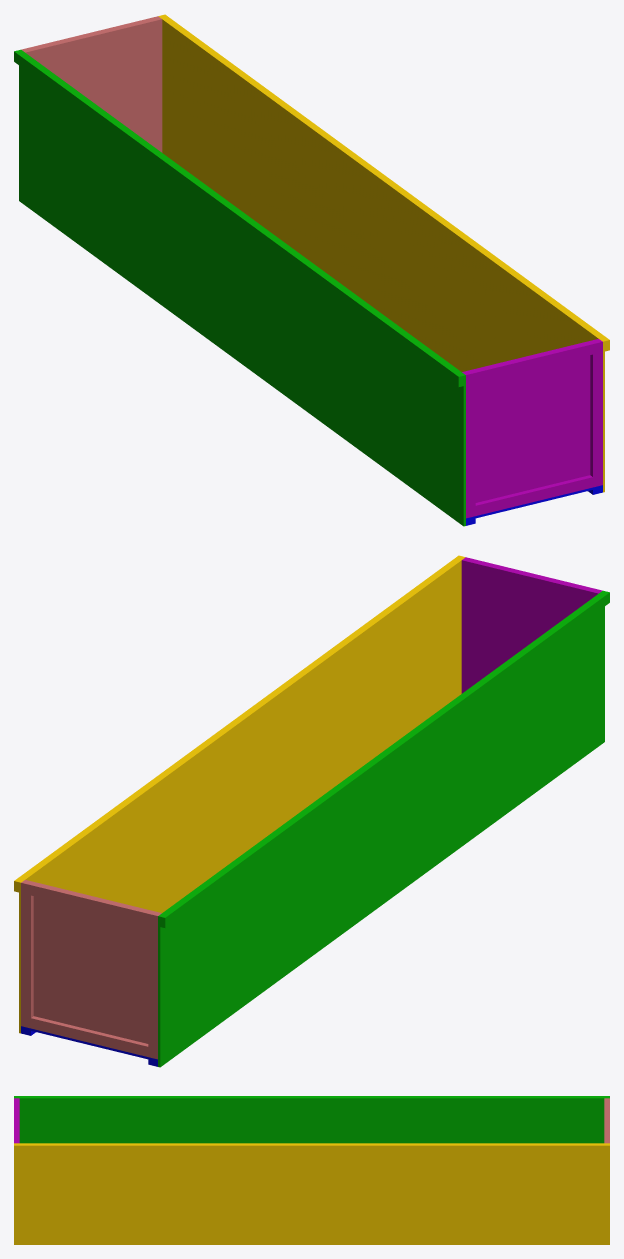
The model's file is result.glb.
3 renders of one model, top to bottom at view 1: azimuth 30°, elevation 25°; view 2: azimuth 150°, elevation 25°; view 3: azimuth 270°, elevation 25°, orthographic. The views are drawn at different scales.
Parts seen in each view (by area): view 1: fb467071-6deb-4155-8181-1153275fd87e__Box_6, c0255b11-a0c3-40d6-a391-142fffa6dbaf__undefined, 09154ada-f8c1-438f-ae07-65fd308ac336__Box_3, c22d8f68-5fbe-4049-b844-190c72988668__undefined, e22e6f59-07fc-42d1-9e4f-0284da2a809c__Box_7, 70abcc52-30c7-44fb-bce6-a627106cbd39__undefined, 5dcff70c-3b2e-43f5-8bf4-085cfaa1e4f6__undefined, 8188ee2b-8182-4b1a-a871-12df00eaa6bb__undefined, 917c8679-3690-4e50-8164-8269b8fedb90__Box_5, 046fc52b-2d56-449f-b0af-4d92ceef504d__Box_4; view 2: fb467071-6deb-4155-8181-1153275fd87e__Box_6, c0255b11-a0c3-40d6-a391-142fffa6dbaf__undefined, c22d8f68-5fbe-4049-b844-190c72988668__undefined, 09154ada-f8c1-438f-ae07-65fd308ac336__Box_3, e22e6f59-07fc-42d1-9e4f-0284da2a809c__Box_7, 70abcc52-30c7-44fb-bce6-a627106cbd39__undefined, edbbc52a-84ac-4b62-aa38-a4c44ec5262d__undefined, 7abfcf5f-9d0b-4f19-b15b-87f17555f8ce__undefined, a583fbf9-7f91-4c14-9aed-7dbd6855aeef__undefined, c12a7941-a37f-4348-a6c1-e1ebfcfe1798__undefined; view 3: c0255b11-a0c3-40d6-a391-142fffa6dbaf__undefined, fb467071-6deb-4155-8181-1153275fd87e__Box_6, 70abcc52-30c7-44fb-bce6-a627106cbd39__undefined, e22e6f59-07fc-42d1-9e4f-0284da2a809c__Box_7.
Boxes of the visible parts, x1,y1,x2,y2 form: fb467071-6deb-4155-8181-1153275fd87e__Box_6: (19, 49, 465, 526); c0255b11-a0c3-40d6-a391-142fffa6dbaf__undefined: (158, 15, 604, 492); 09154ada-f8c1-438f-ae07-65fd308ac336__Box_3: (462, 338, 599, 502); c22d8f68-5fbe-4049-b844-190c72988668__undefined: (24, 18, 162, 152); e22e6f59-07fc-42d1-9e4f-0284da2a809c__Box_7: (14, 50, 463, 386); 70abcc52-30c7-44fb-bce6-a627106cbd39__undefined: (161, 14, 609, 351); 5dcff70c-3b2e-43f5-8bf4-085cfaa1e4f6__undefined: (590, 339, 602, 487); 8188ee2b-8182-4b1a-a871-12df00eaa6bb__undefined: (473, 342, 592, 382); 917c8679-3690-4e50-8164-8269b8fedb90__Box_5: (475, 475, 592, 515); 046fc52b-2d56-449f-b0af-4d92ceef504d__Box_4: (463, 370, 475, 518); fb467071-6deb-4155-8181-1153275fd87e__Box_6: (158, 590, 604, 1067); c0255b11-a0c3-40d6-a391-142fffa6dbaf__undefined: (19, 556, 465, 1033); c22d8f68-5fbe-4049-b844-190c72988668__undefined: (24, 879, 161, 1043); 09154ada-f8c1-438f-ae07-65fd308ac336__Box_3: (461, 559, 599, 693); e22e6f59-07fc-42d1-9e4f-0284da2a809c__Box_7: (160, 591, 609, 927); 70abcc52-30c7-44fb-bce6-a627106cbd39__undefined: (14, 555, 462, 892); edbbc52a-84ac-4b62-aa38-a4c44ec5262d__undefined: (21, 880, 33, 1028); 7abfcf5f-9d0b-4f19-b15b-87f17555f8ce__undefined: (31, 883, 150, 923); a583fbf9-7f91-4c14-9aed-7dbd6855aeef__undefined: (31, 1016, 148, 1056); c12a7941-a37f-4348-a6c1-e1ebfcfe1798__undefined: (148, 911, 160, 1059); c0255b11-a0c3-40d6-a391-142fffa6dbaf__undefined: (14, 1143, 609, 1244); fb467071-6deb-4155-8181-1153275fd87e__Box_6: (14, 1097, 609, 1143); 70abcc52-30c7-44fb-bce6-a627106cbd39__undefined: (14, 1144, 609, 1152); e22e6f59-07fc-42d1-9e4f-0284da2a809c__Box_7: (14, 1096, 609, 1097).
Size of the model in its own units: 552 by 526 by 2812.
